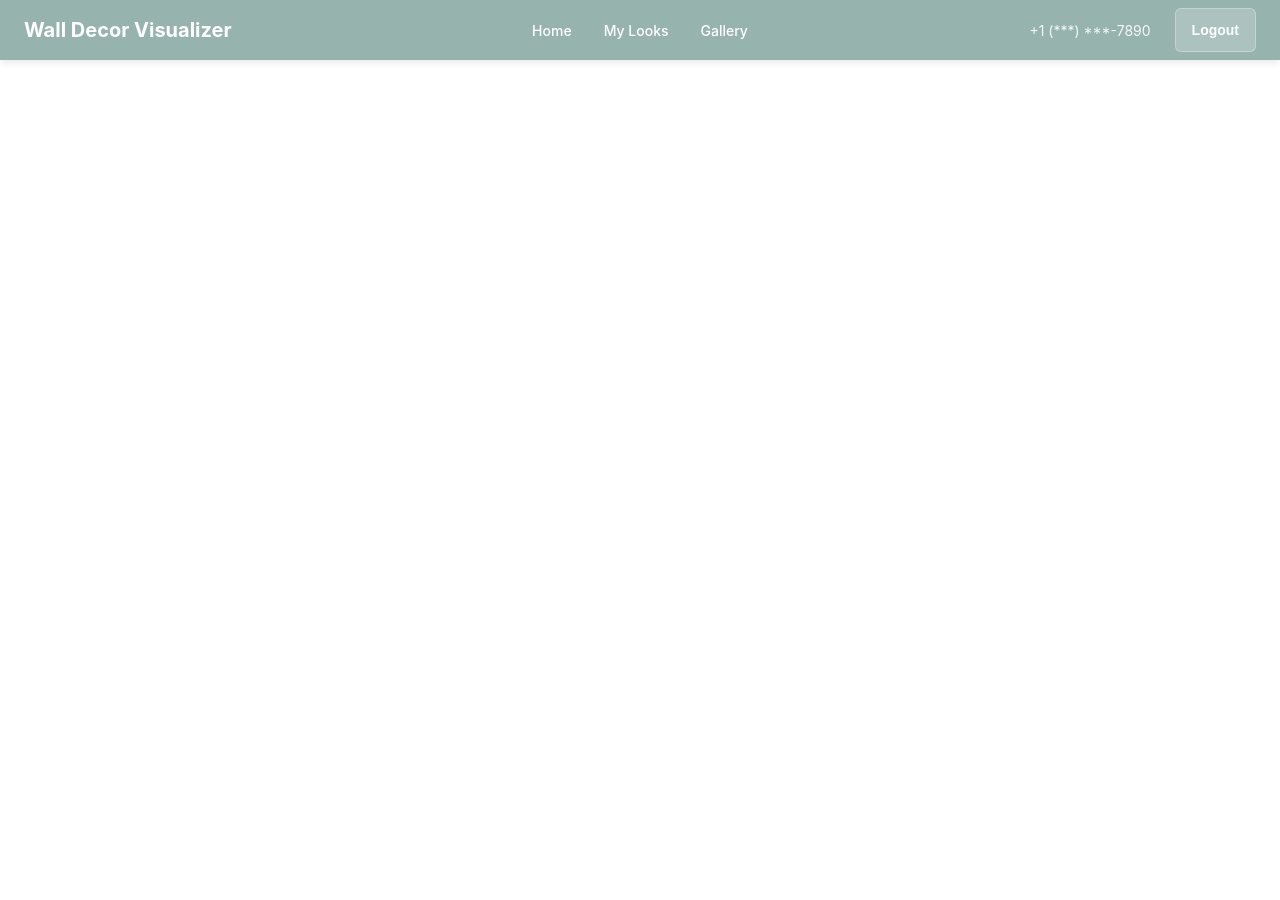
Test: GlobalHeader Component › should close confirmation dialog when cancel is clicked
Click the button "Logout" at (1215, 30), box [1175,8,1256,52]
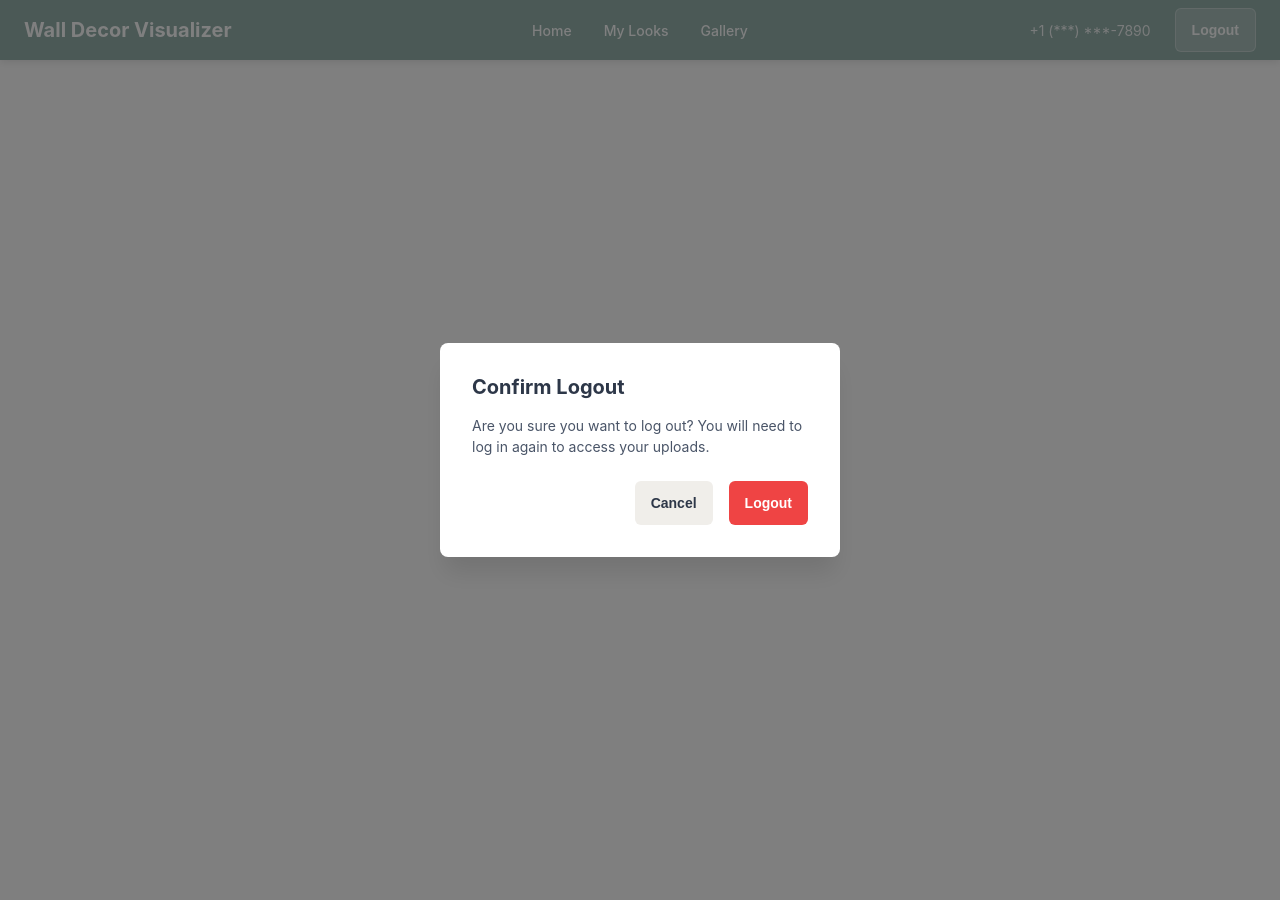
Check: the heading "Confirm Logout" is shown, box [472,375,625,399]
Click the button "Cancel" at (674, 503), box [635,481,713,525]
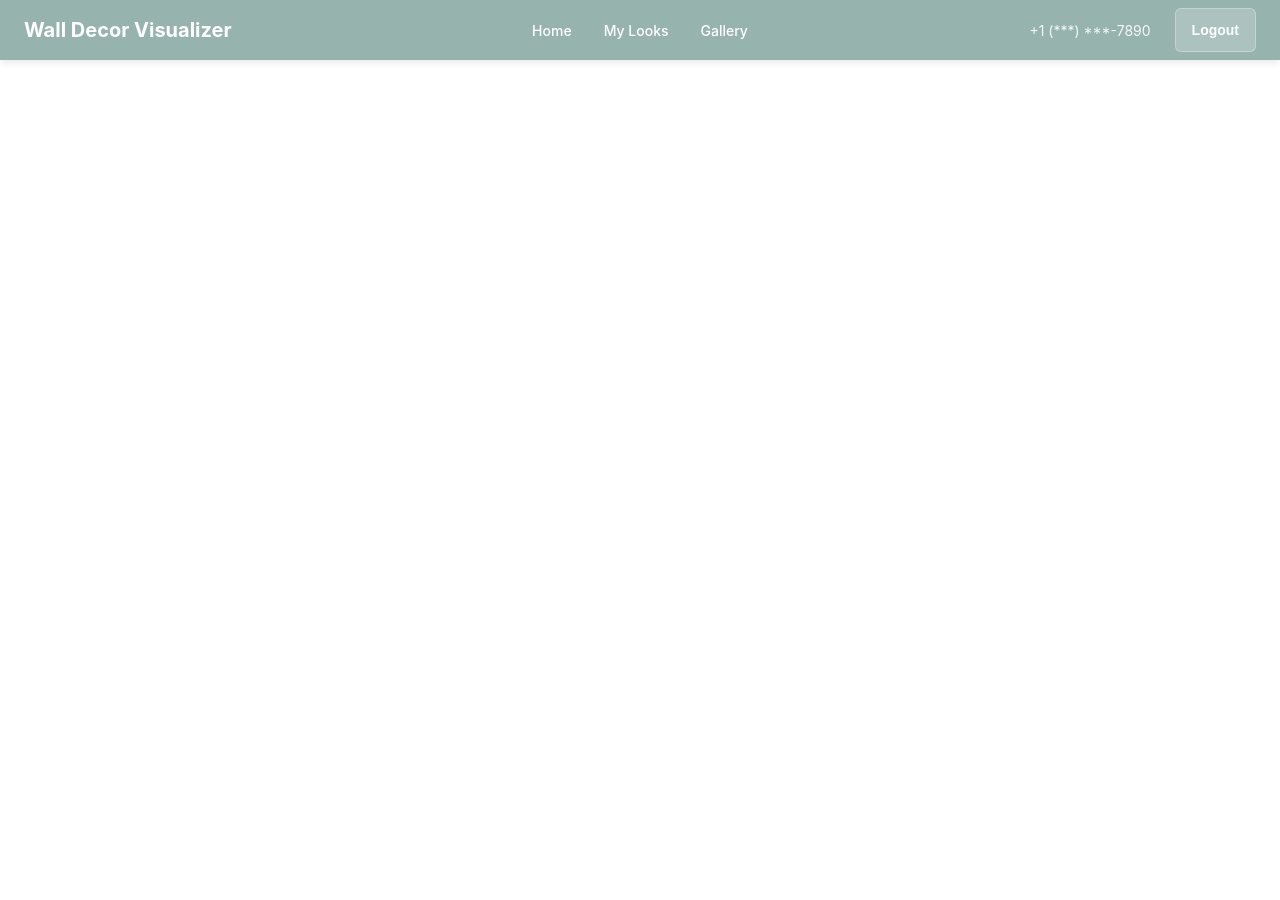
Check: the heading "Confirm Logout" is gone
